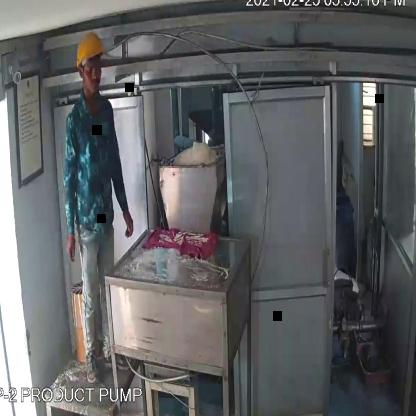helmet: (72, 26, 109, 68)
